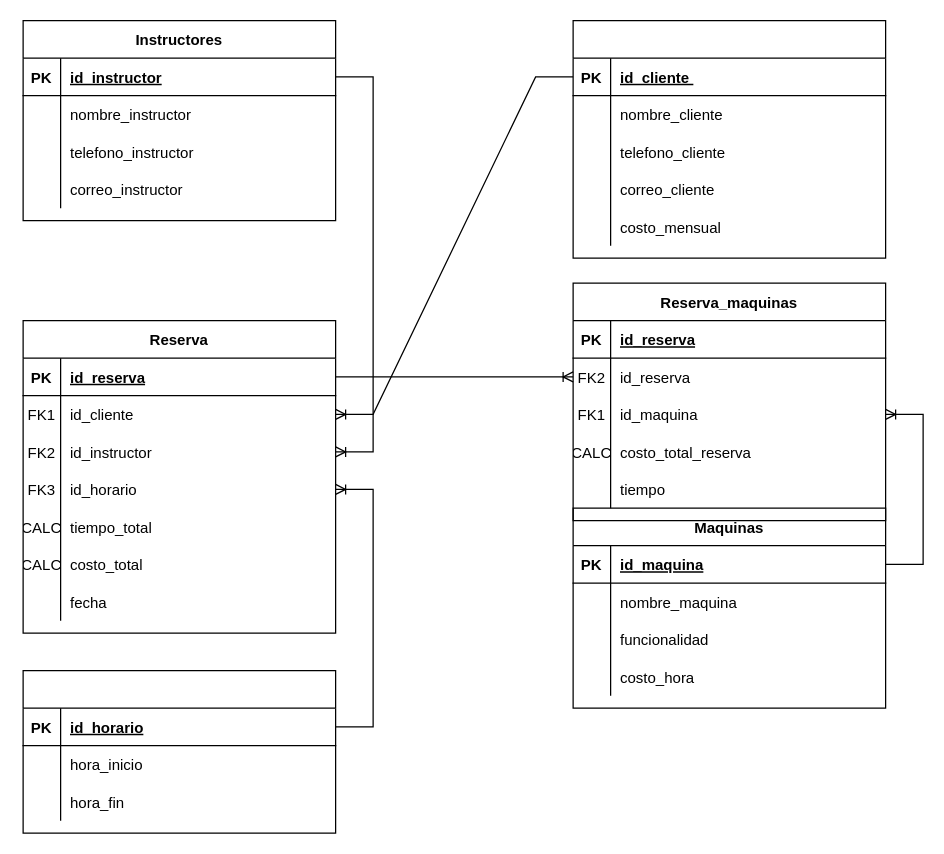
Image size: 944x854. Some labels were removed from this diagram. Here are the shapes that lost their labels. From the top down, the box of each, then its label:
(572, 19, 886, 258): Clientes
(22, 669, 336, 833): Horarios
